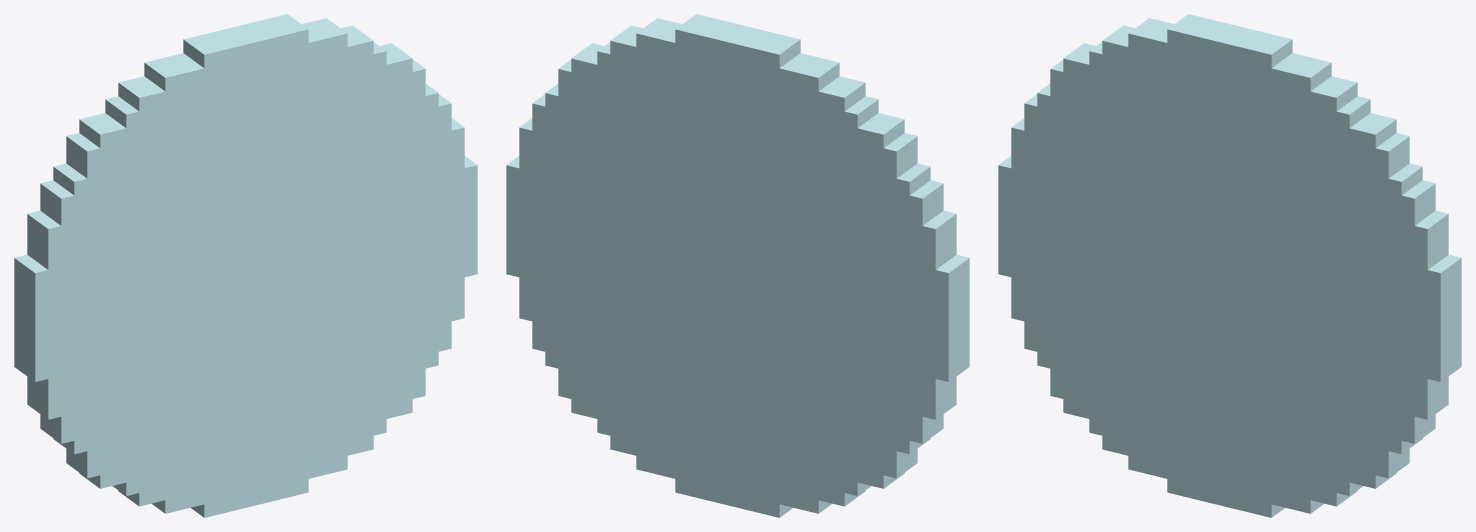
The model's file is bardak_alt.fbx.
3 views of the same model, side by side, from view 1: azimuth 30°, elevation 25°; view 2: azimuth 150°, elevation 25°; view 3: azimuth 330°, elevation 25° (orthographic).
Parts seen in each view (by area): view 1: generated; view 2: generated; view 3: generated.
Part boxes in pixels (x1,y1,x2,y2): generated: (14,14,477,517); generated: (506,14,969,517); generated: (998,14,1461,517).
Bounding box in the file's own units: 340 × 340 × 28.
